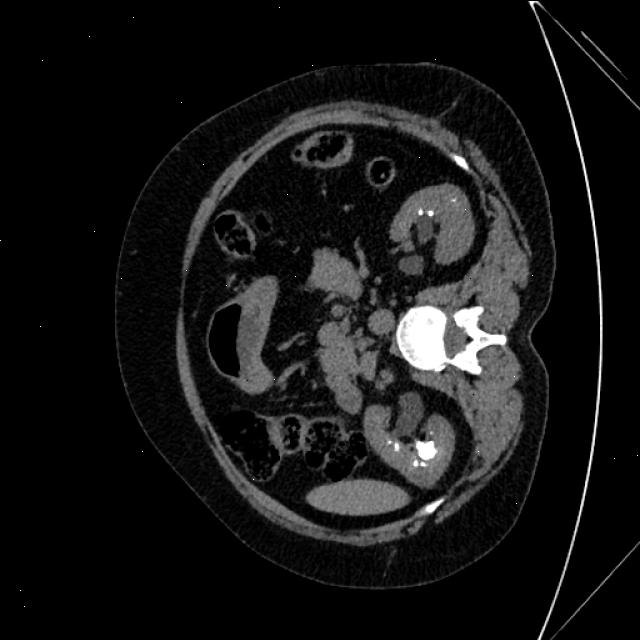kidneystone: (424, 449, 437, 456), (418, 208, 432, 214), (415, 442, 424, 451), (394, 441, 400, 451), (412, 460, 425, 464)
